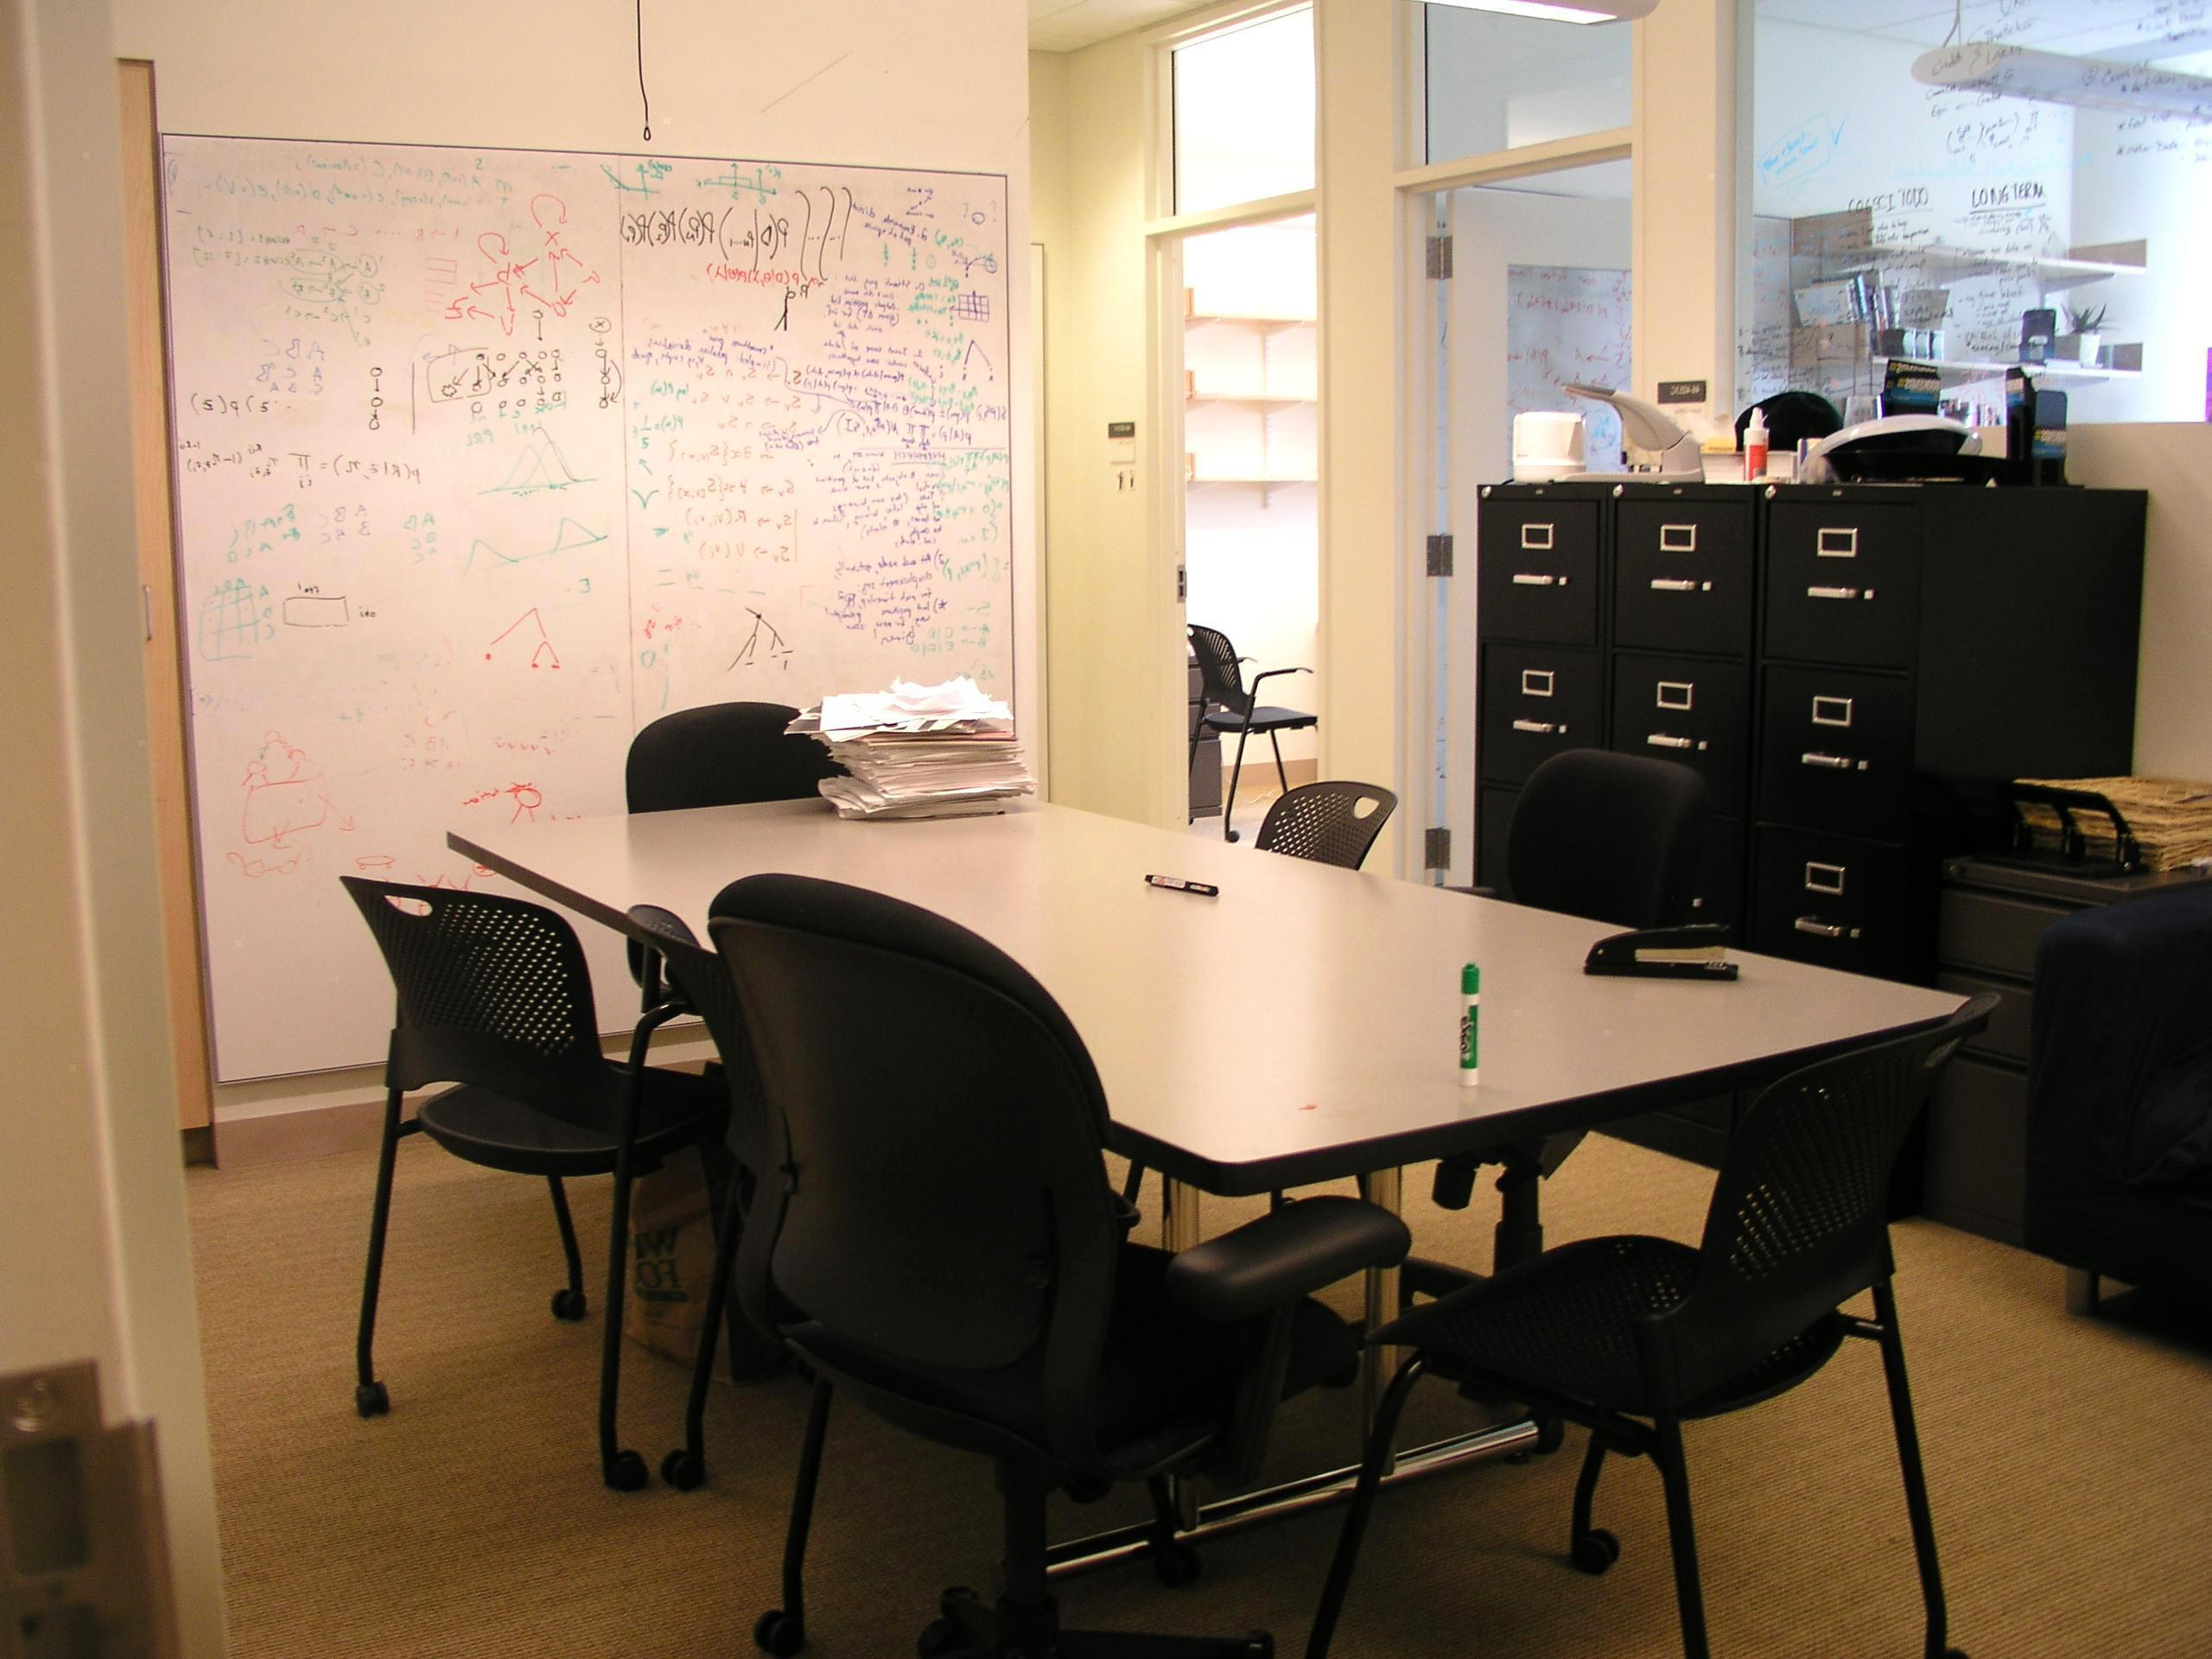Armario: (1752, 495, 2127, 1237), (1601, 500, 1761, 1145), (1474, 505, 1597, 1105)
